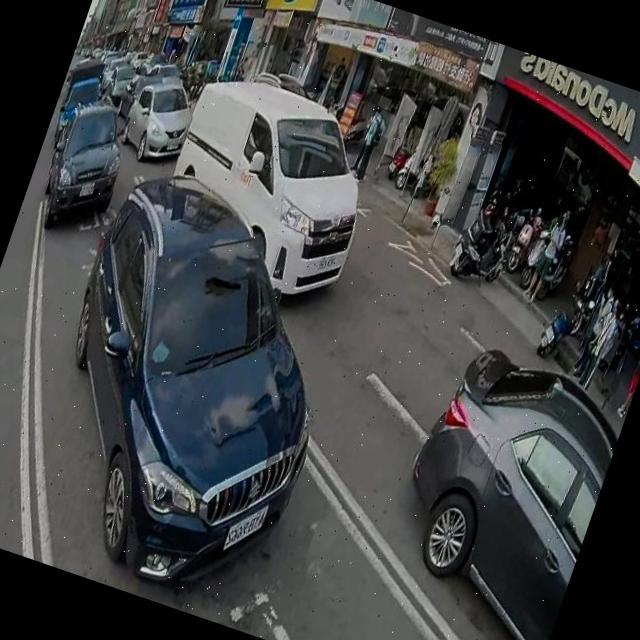person: (574, 291, 628, 394), (520, 212, 572, 307), (572, 281, 620, 378), (352, 104, 391, 182), (593, 241, 625, 297)
